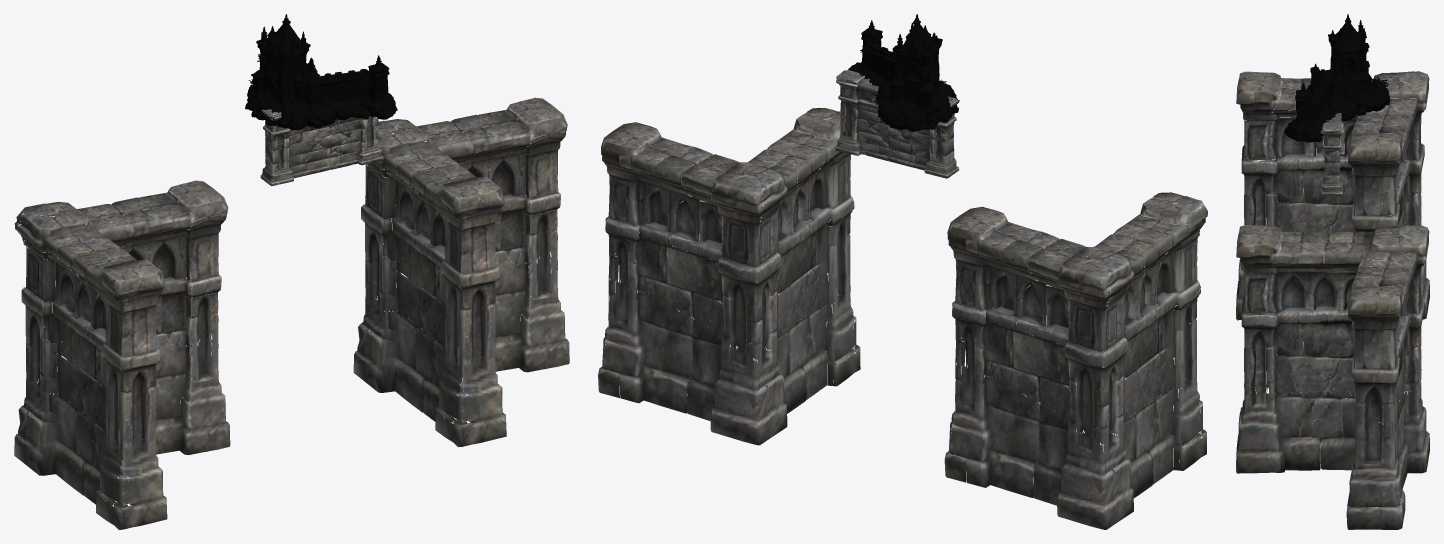
Rendered from Valoria_MainGate_FPDv1.glb.
3 renders of one model, left to right at view 1: azimuth 30°, elevation 25°; view 2: azimuth 150°, elevation 25°; view 3: azimuth 270°, elevation 25°, orthographic. The views are drawn at different scales.
Visible parts, largest first — view 1: Gate west pylon · 00, Gate east pylon · 00, Gate crown · 00, Gate lintel · 00; view 2: Gate west pylon · 00, Gate east pylon · 00, Gate crown · 00, Gate lintel · 00; view 3: Gate east pylon · 00, Gate west pylon · 00, Gate crown · 00, Gate lintel · 00.
Boxes of the visible parts, x1=… form: Gate west pylon · 00: x1=14, y1=180, x2=230, y2=529; Gate east pylon · 00: x1=353, y1=97, x2=569, y2=447; Gate crown · 00: x1=245, y1=14, x2=397, y2=130; Gate lintel · 00: x1=260, y1=109, x2=383, y2=185; Gate west pylon · 00: x1=944, y1=192, x2=1207, y2=529; Gate east pylon · 00: x1=598, y1=108, x2=860, y2=445; Gate crown · 00: x1=848, y1=14, x2=959, y2=131; Gate lintel · 00: x1=835, y1=70, x2=959, y2=178; Gate east pylon · 00: x1=1236, y1=224, x2=1429, y2=529; Gate west pylon · 00: x1=1236, y1=71, x2=1429, y2=369; Gate crown · 00: x1=1284, y1=14, x2=1390, y2=142; Gate lintel · 00: x1=1320, y1=113, x2=1344, y2=195.
Bounding box in the file's own units: 5 × 3.9 × 1.76.
4 materials, 4 textured.
